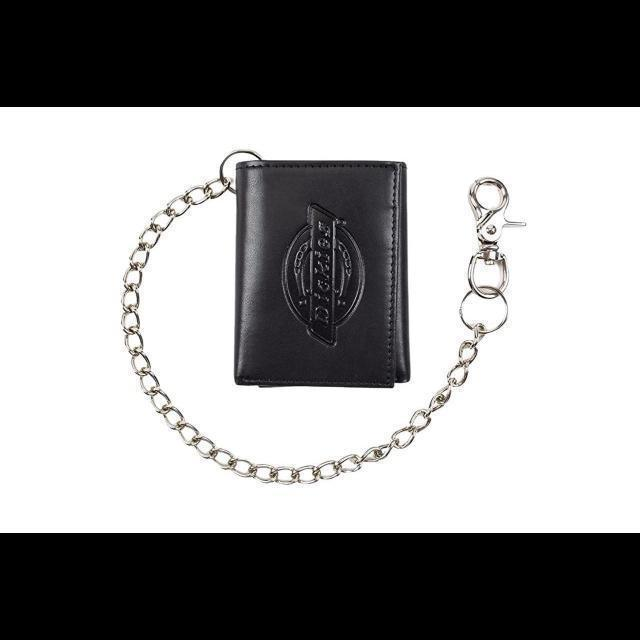Wallet: (232, 158, 410, 388)
